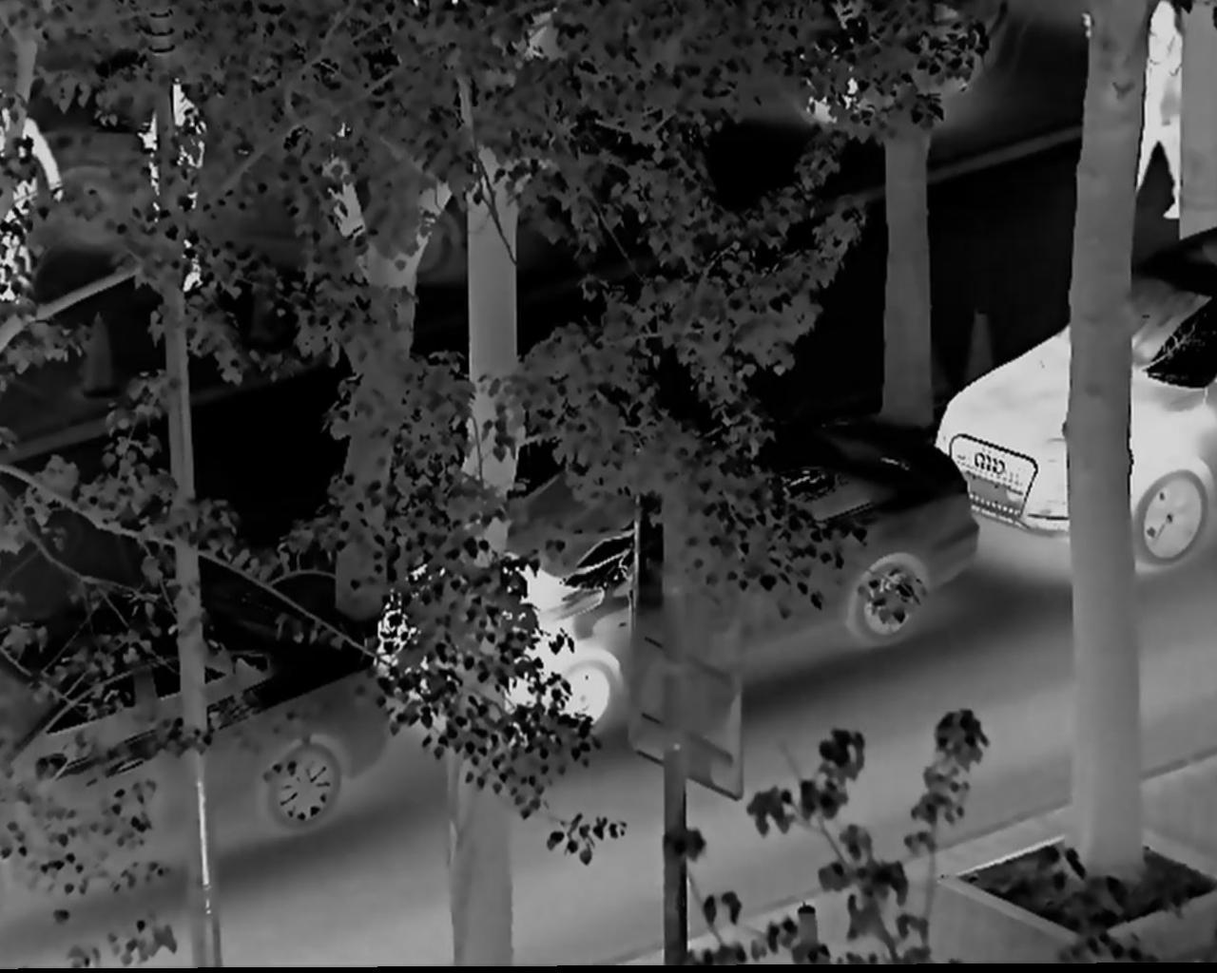person: (140, 75, 206, 296), (1138, 6, 1191, 227)
